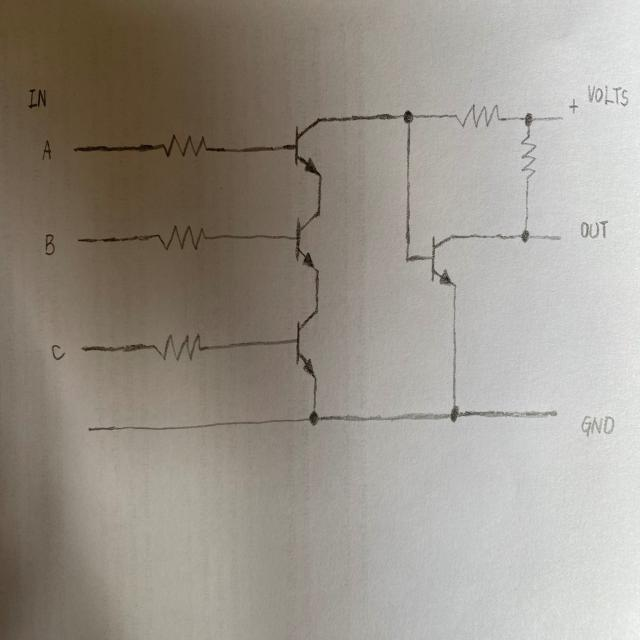junction: (305, 402, 325, 429), (399, 102, 416, 131), (446, 398, 463, 426), (517, 222, 535, 248), (520, 107, 537, 129)
resistor: (150, 327, 210, 363), (156, 130, 214, 164), (450, 98, 504, 133), (154, 222, 210, 253), (518, 131, 541, 182)
terminal: (550, 405, 562, 422), (554, 230, 565, 244), (69, 142, 79, 156), (556, 111, 566, 124), (78, 342, 88, 354), (74, 234, 83, 246), (85, 423, 93, 435)
text: (586, 80, 630, 109), (579, 410, 616, 442), (24, 81, 50, 113), (578, 216, 609, 242), (37, 133, 55, 165), (41, 230, 60, 260), (48, 338, 66, 364), (568, 95, 579, 115)
transistor: (287, 109, 336, 179), (288, 303, 330, 384), (288, 204, 332, 278), (424, 222, 467, 295)
